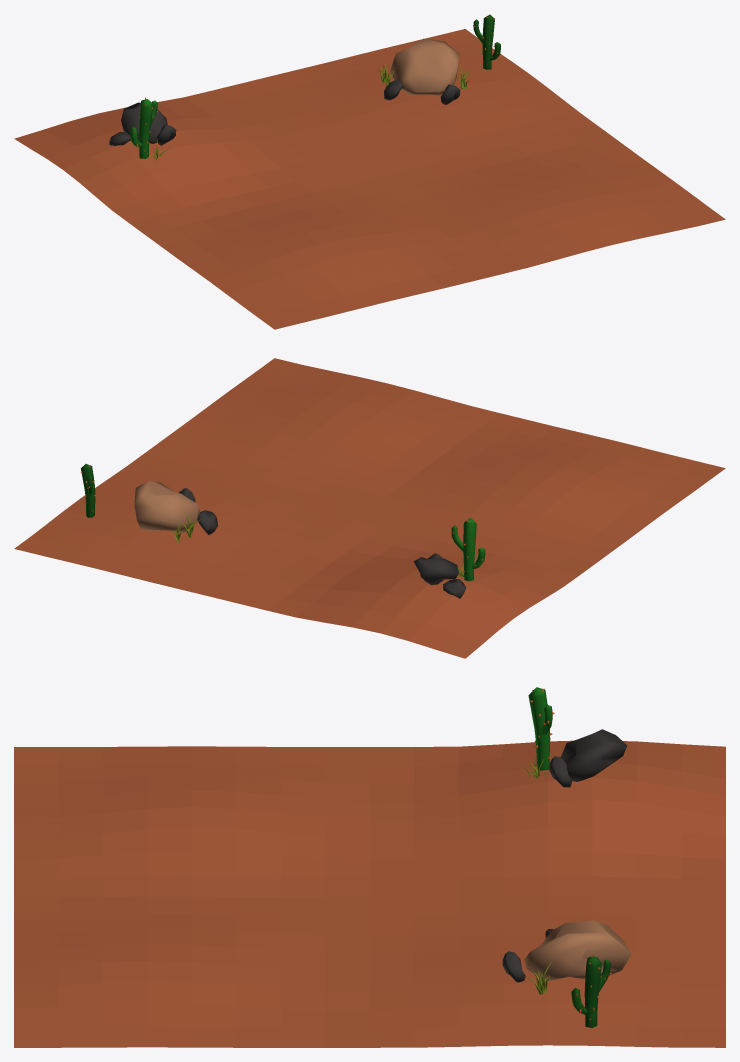
Rendered from land.gltf.
3 views of the same model, one above another, from view 1: azimuth 30°, elevation 25°; view 2: azimuth 150°, elevation 25°; view 3: azimuth 270°, elevation 25° (orthographic). The views are drawn at different scales.
Visible parts, largest first — view 1: Plane, Rock, Cautus_Main_Stem.003, Rock.006, Cautus_Main_Stem.004; view 2: Plane, Rock, Cautus_Main_Stem.003, Rock.006, Cautus_Main_Stem.004; view 3: Plane, Rock, Rock.006, Cautus_Main_Stem.004, Cautus_Main_Stem.003.
Boxes of the visible parts, x1,y1,x2,y2 form: Plane: (14,29,725,329); Rock: (390,38,459,95); Cautus_Main_Stem.003: (129,97,157,158); Rock.006: (121,102,167,143); Cautus_Main_Stem.004: (473,14,500,69); Plane: (14,358,725,658); Rock: (134,480,199,532); Cautus_Main_Stem.003: (451,517,485,581); Rock.006: (414,557,458,585); Cautus_Main_Stem.004: (81,464,96,517); Plane: (14,740,725,1047); Rock: (524,920,631,981); Rock.006: (561,729,627,781); Cautus_Main_Stem.004: (571,954,611,1027); Cautus_Main_Stem.003: (528,687,554,770).
Bounding box in the file's own units: 14.8 × 2.35 × 14.8.
